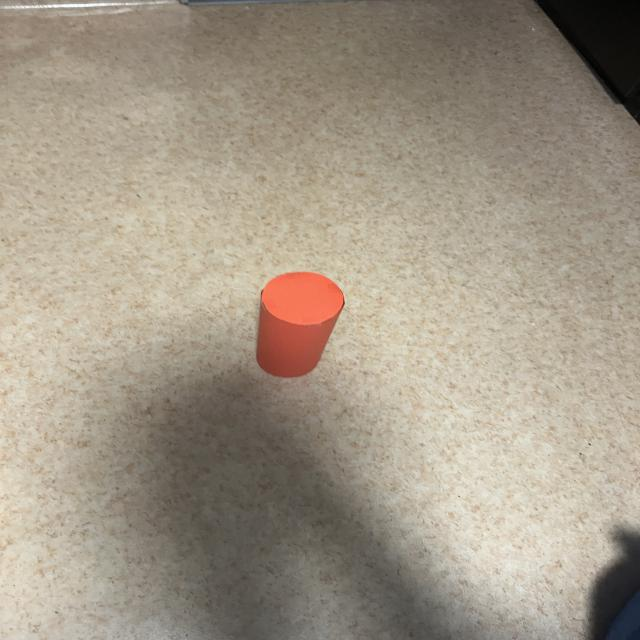przeszkoda: (256, 272, 344, 377)
